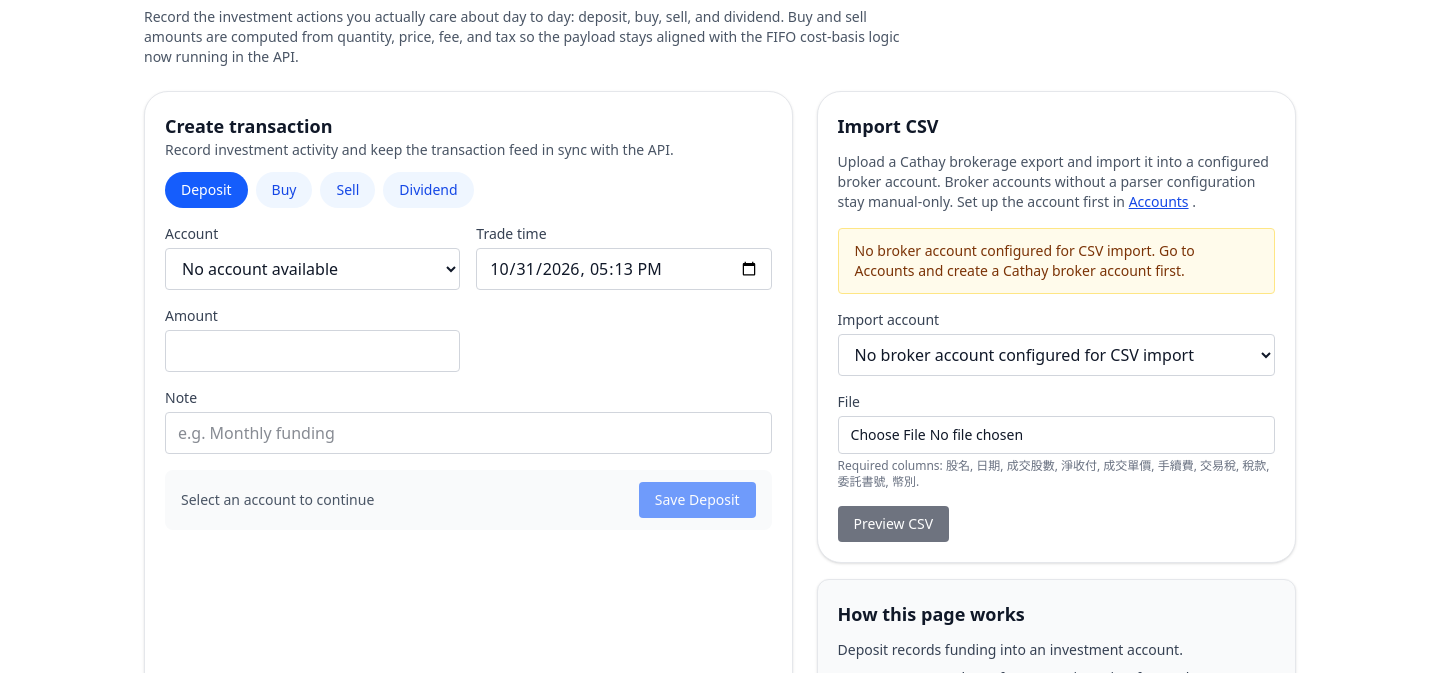
it: Transactions page trade flows › blocks buy submission when quantity is missing
Click the button "Buy": (284, 190) top-left (256, 172), bottom-right (312, 208)
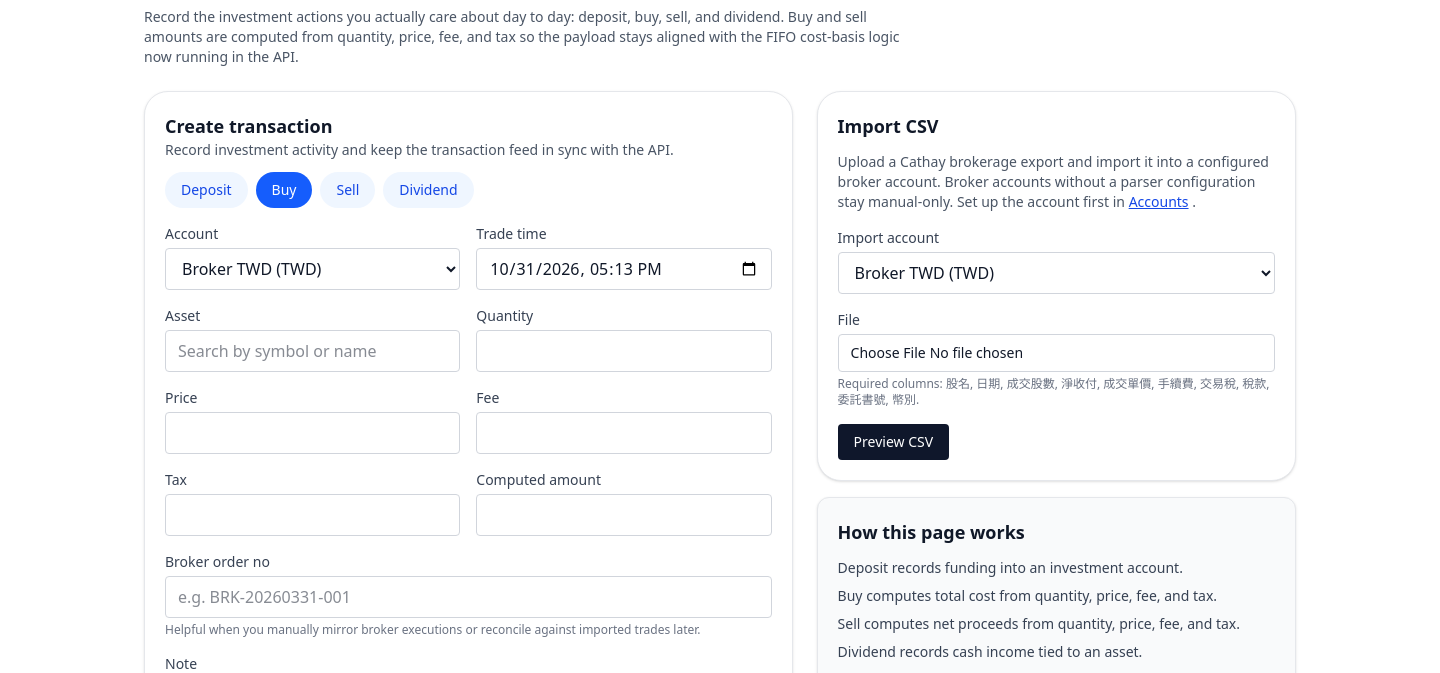
In the search field labelled "Asset": (313, 351) top-left (165, 330), bottom-right (460, 372), type "2330"
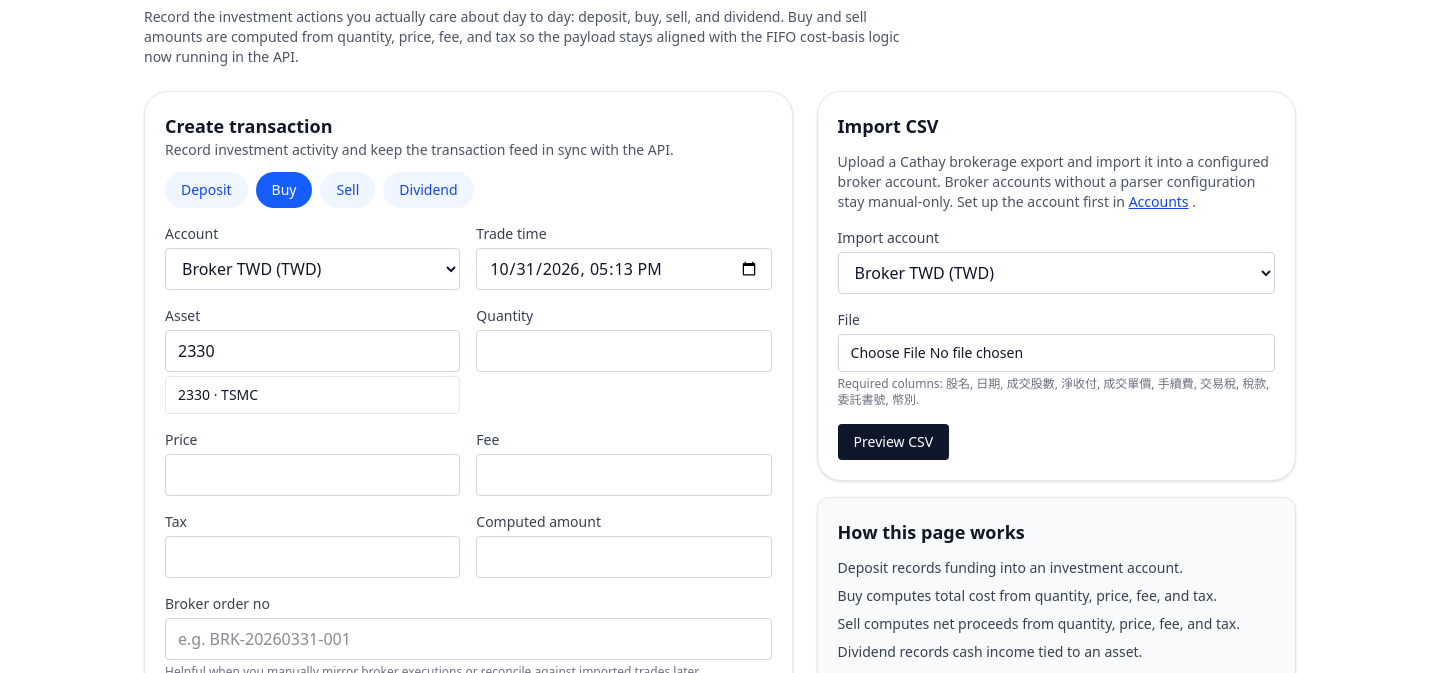
Click the button "2330 · TSMC": (194, 394) top-left (166, 377), bottom-right (459, 413)
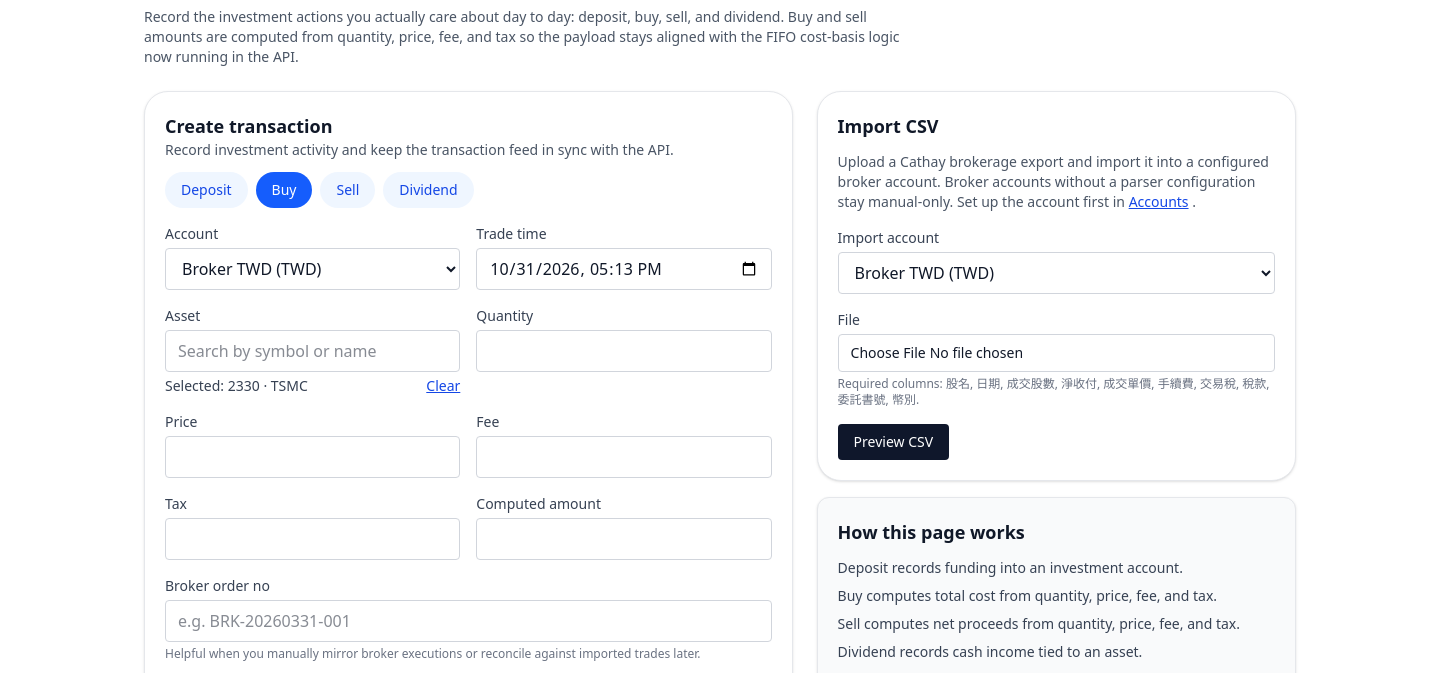
In the number field labelled "Price": (313, 457) top-left (165, 436), bottom-right (460, 478), type "100"
(page scrolled)
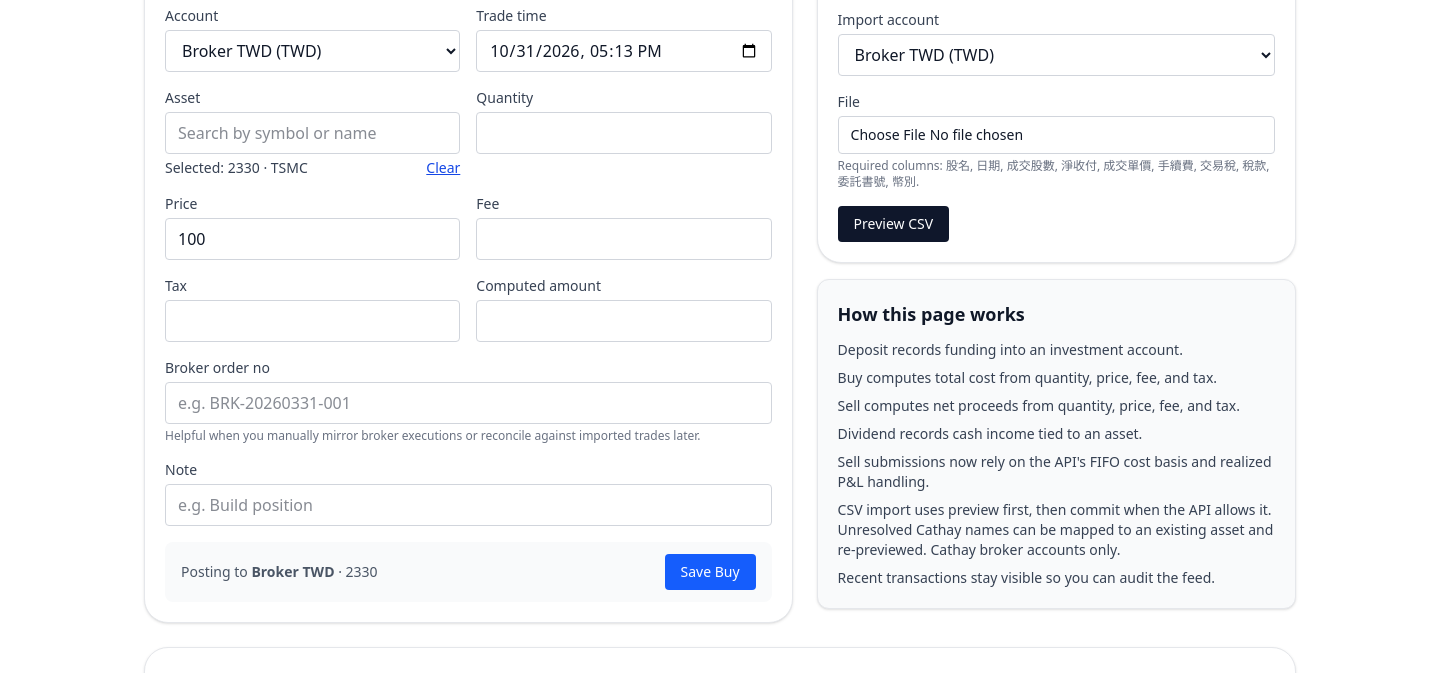
Click the button "Save Buy": (710, 572) top-left (664, 554), bottom-right (756, 590)
(page scrolled)
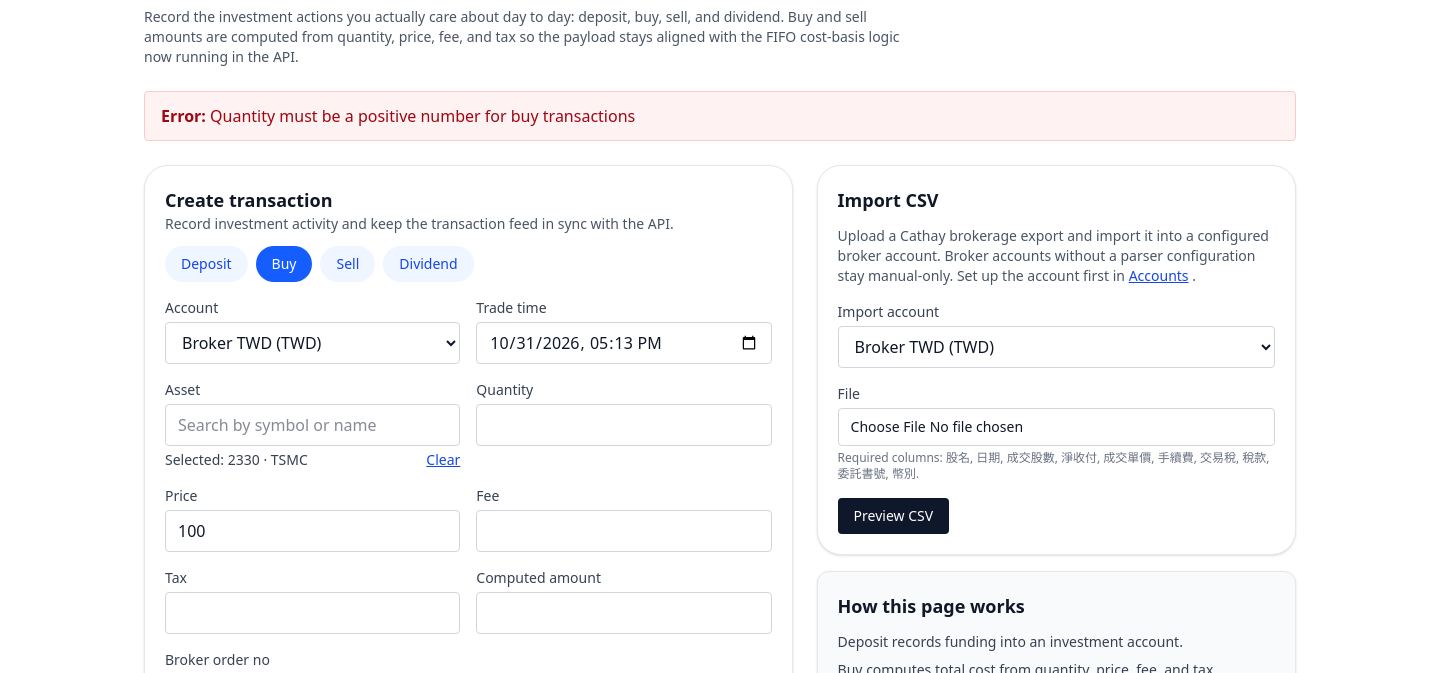
Expected: the text "Quantity must be a positive number for buy transactions" is shown, top-left (210, 105), bottom-right (635, 127)
